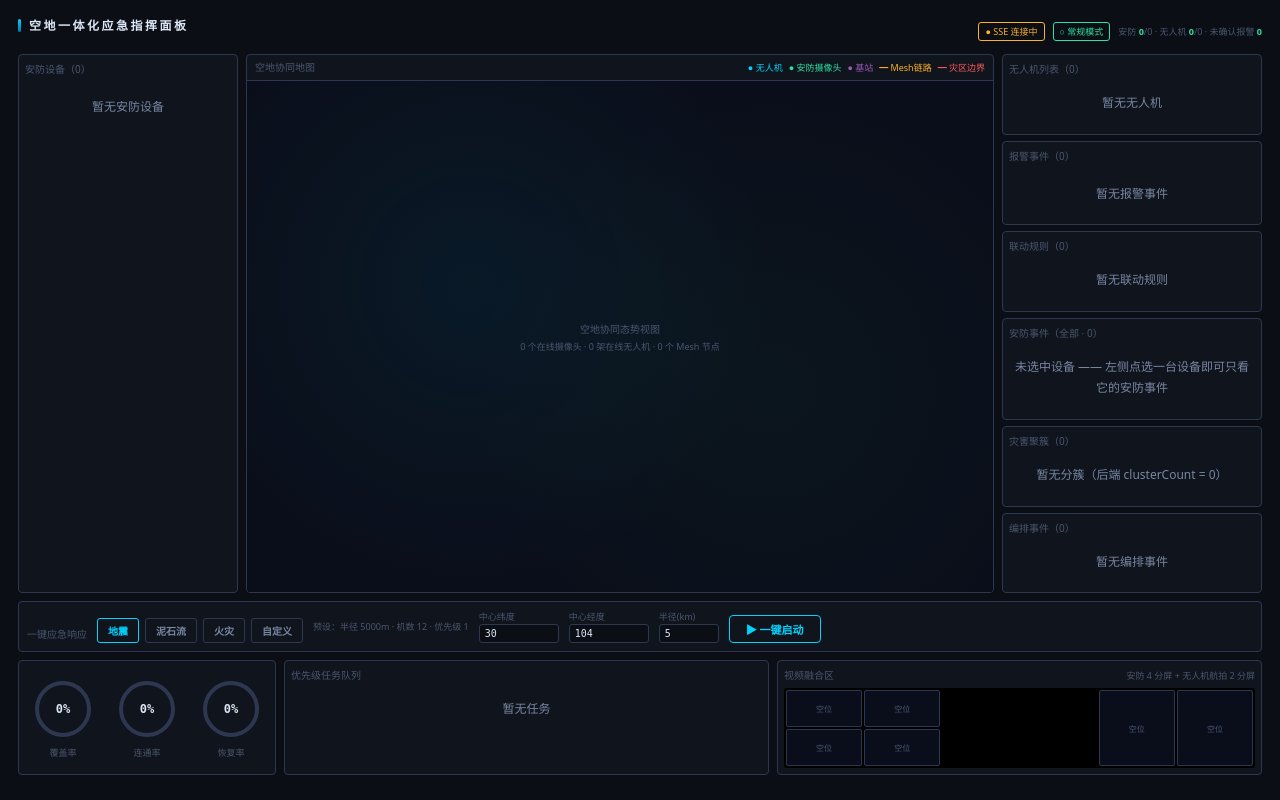
场景选择器用后端真值驱动（scenarios 不再是拉回来没人读） › 显示选中场景的预设参数（defaults 之前也没人读）
Expected: the button "地震" is shown, [97, 618, 139, 643]
Expected: the text "预设：半径 5000m · 机数 12 · 优先级 1" is shown, [313, 620, 469, 633]
切到火灾 → 预设应跟着换
What coordinates should you click on to do the following:
click the button "火灾"
I would click on:
 (224, 631)
Its box is [203, 618, 245, 643].
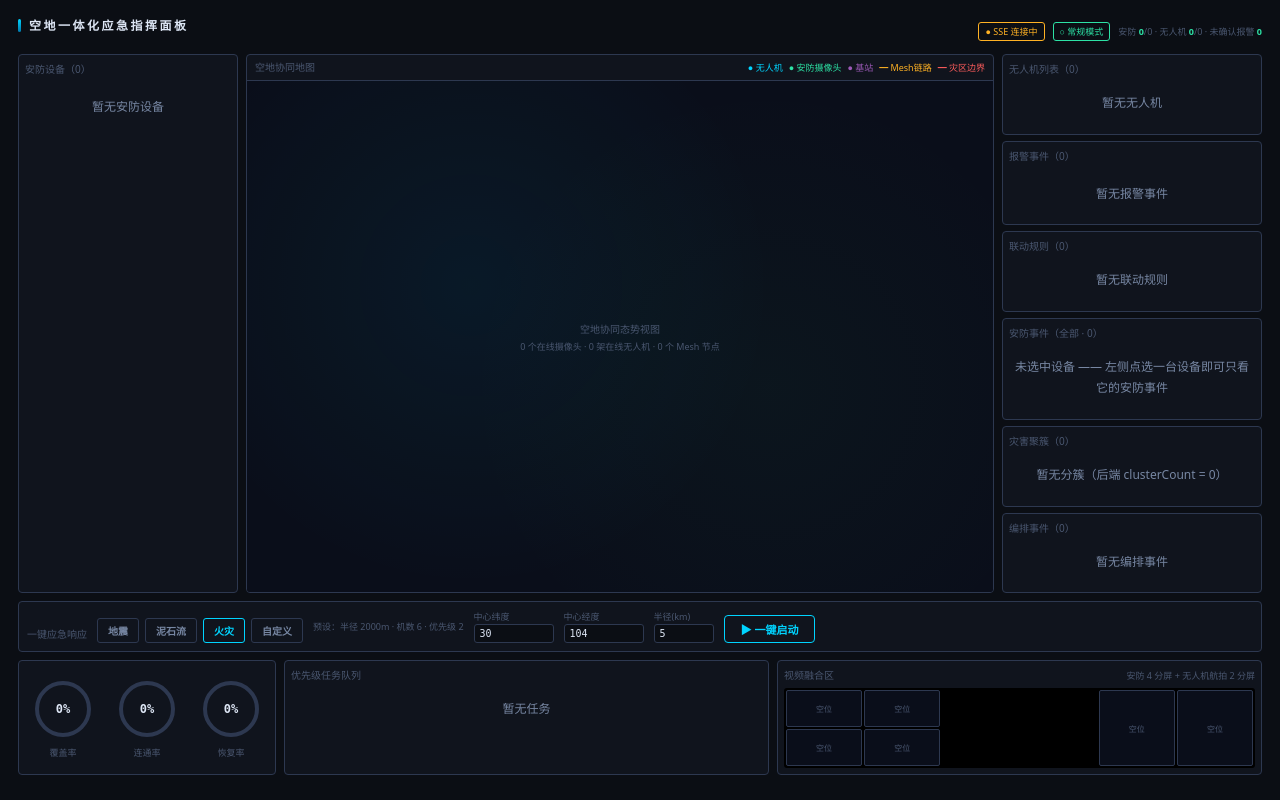
Result: the text "预设：半径 2000m · 机数 6 · 优先级 2" is shown at [313, 620, 464, 633]
Result: the text "半径 5000m" is gone
